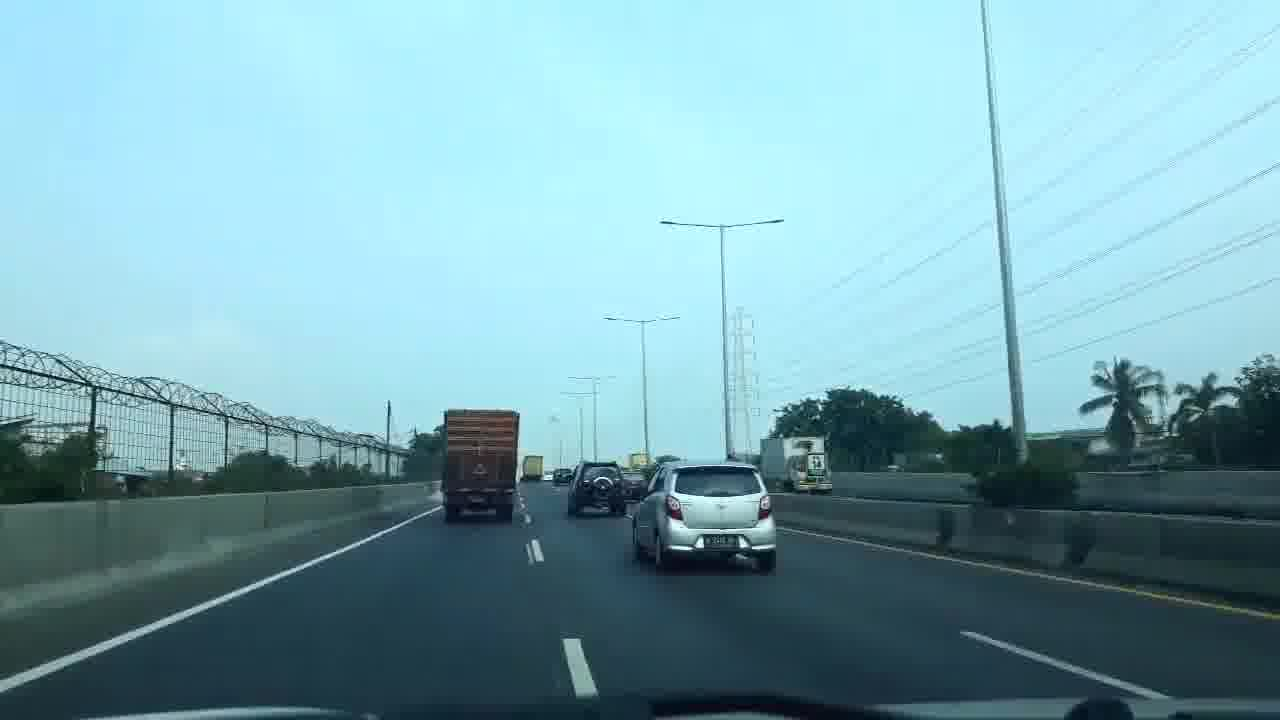plate_positive: (704, 535, 740, 549)
